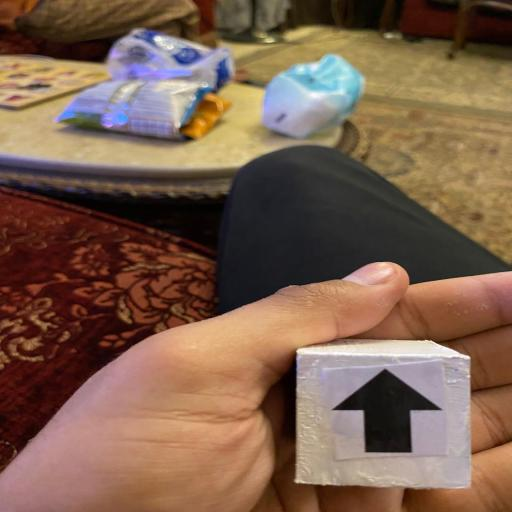Up: (291, 336, 474, 490)
